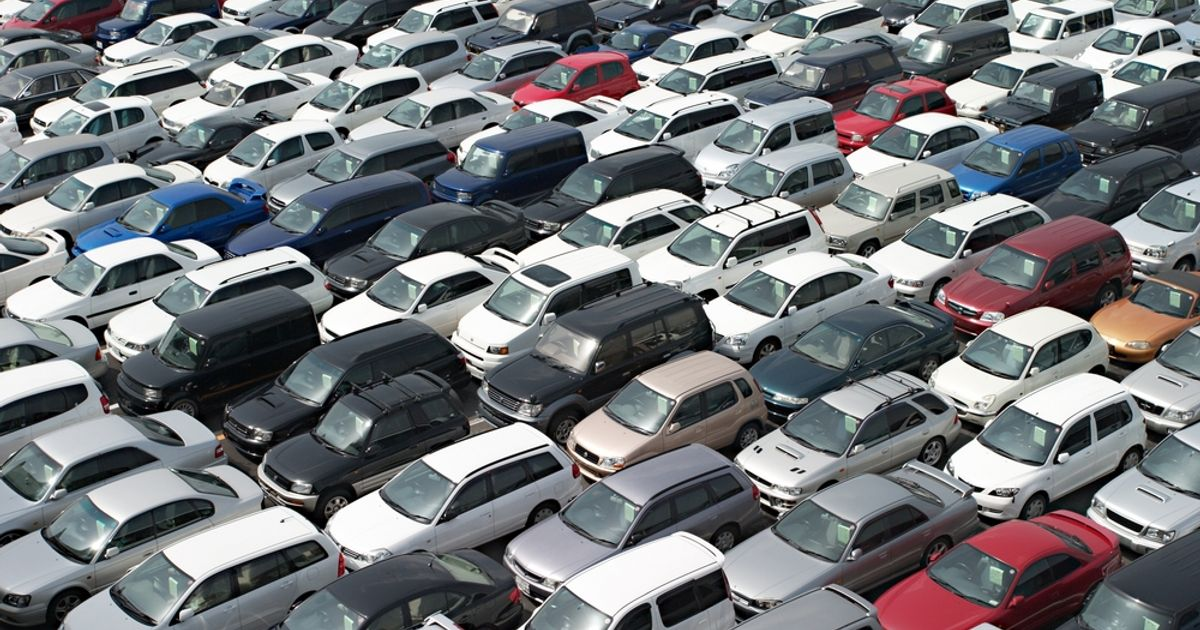Car: (0, 464, 265, 628), (724, 459, 980, 621), (504, 443, 762, 603), (324, 423, 583, 571), (476, 283, 714, 443), (58, 507, 345, 630), (220, 318, 470, 459), (255, 370, 470, 522), (735, 371, 961, 515), (0, 410, 228, 546), (944, 373, 1147, 521), (874, 509, 1122, 630), (115, 286, 321, 418), (104, 246, 335, 363), (565, 351, 768, 481), (749, 300, 962, 423), (452, 245, 640, 379), (933, 215, 1133, 336), (517, 531, 736, 630), (928, 306, 1109, 425), (706, 252, 896, 365), (322, 199, 529, 300), (0, 237, 221, 330), (273, 549, 525, 630), (637, 196, 827, 301), (868, 193, 1051, 302), (224, 169, 430, 265), (319, 246, 524, 341), (521, 143, 705, 240), (0, 160, 201, 246), (267, 129, 459, 212), (71, 178, 269, 256), (1087, 419, 1200, 554), (518, 188, 707, 263), (1057, 531, 1200, 630), (29, 57, 208, 135), (692, 95, 840, 188), (816, 163, 962, 256), (430, 121, 589, 204), (1036, 145, 1191, 224), (457, 95, 629, 166), (1067, 76, 1200, 167), (0, 356, 112, 462), (742, 39, 903, 112), (161, 70, 332, 134), (345, 88, 519, 150), (619, 47, 782, 113), (589, 91, 743, 158), (1090, 271, 1200, 364), (702, 142, 856, 208), (293, 66, 428, 140), (949, 125, 1082, 200), (848, 112, 1001, 176), (835, 75, 959, 153), (200, 119, 344, 186), (946, 52, 1091, 118), (0, 134, 120, 212), (1112, 173, 1200, 278), (122, 109, 281, 166), (1122, 325, 1200, 434), (25, 95, 166, 154), (746, 0, 889, 58), (101, 11, 246, 67), (980, 65, 1104, 130), (205, 34, 361, 85), (429, 39, 568, 95), (467, 0, 599, 56), (511, 50, 641, 106), (730, 583, 881, 630), (363, 0, 498, 52), (336, 31, 473, 82), (156, 26, 290, 78), (303, 0, 439, 51), (900, 21, 1011, 83), (0, 317, 110, 379), (0, 61, 115, 120), (631, 28, 746, 86), (94, 0, 222, 49), (1074, 18, 1186, 72), (1010, 0, 1115, 56), (569, 21, 700, 62), (0, 229, 69, 306), (781, 27, 910, 68), (698, 0, 833, 38), (1103, 49, 1200, 98), (899, 0, 1018, 39), (597, 0, 723, 35), (5, 0, 123, 36), (0, 38, 101, 76), (247, 0, 344, 32), (879, 0, 935, 34), (1112, 0, 1197, 21), (0, 28, 84, 46), (222, 0, 279, 22), (0, 107, 23, 155), (1178, 7, 1200, 56), (412, 612, 463, 630), (1012, 0, 1060, 19), (0, 0, 34, 25), (1182, 142, 1200, 175), (494, 0, 521, 14), (589, 0, 616, 12), (968, 623, 1002, 630), (719, 0, 735, 9), (220, 0, 226, 7)
